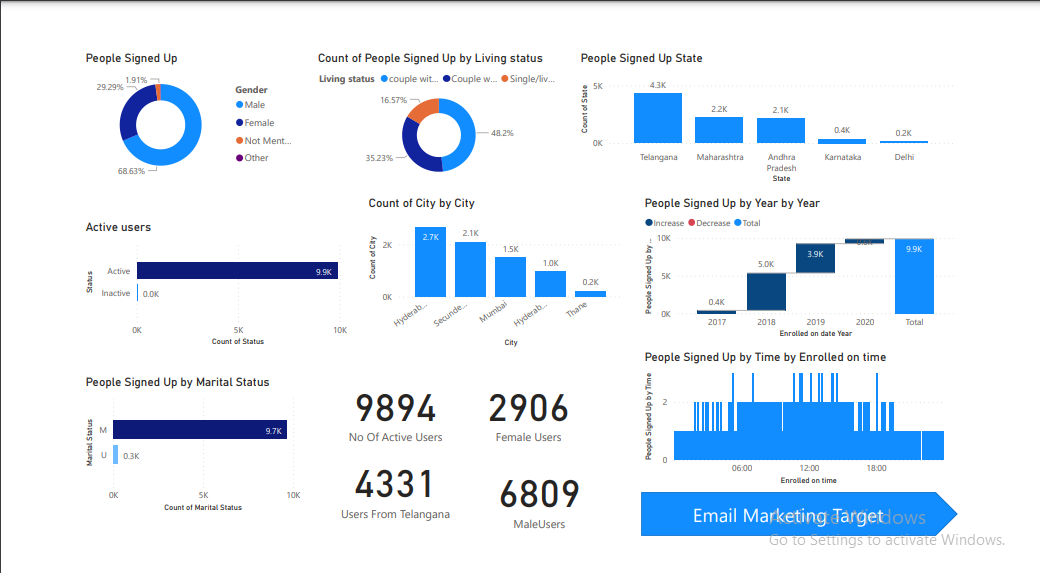

What the dashboard file says about the page in this screenshot:
{"tool":"powerbi","page":{"name":"Page 1","canvas":[1280,720],"ordinal":0},"visuals":[{"type":"donutChart","title":"People Signed Up","fields":{"Category":["Email Marketing.Gender"],"Y":["CountNonNull(Email Marketing.Gender)"]},"box":[18.5,26.9,314.1,191.5],"z":0},{"type":"barChart","title":"Active users","fields":{"Category":["Email Marketing.Status"],"Y":["CountNonNull(Email Marketing.Status)"]},"box":[18.5,267.1,379.6,183.1],"z":1},{"type":"barChart","title":"People Signed Up by Marital Status","fields":{"Category":["Email Marketing.Marital Status"],"Y":["CountNonNull(Email Marketing.Marital Status)"]},"box":[18.5,487.1,314.1,198.2],"z":2},{"type":"donutChart","title":"Count of People Signed Up by Living status","fields":{"Category":["Email Marketing.Living status"],"Y":["CountNonNull(Email Marketing.Living status)"]},"box":[347.7,26.9,352.8,191.5],"z":3},{"type":"columnChart","title":"People Signed Up State","fields":{"Category":["Email Marketing.State"],"Y":["CountNonNull(Email Marketing.State)"]},"box":[720.6,26.9,539.2,191.5],"z":4},{"type":"columnChart","fields":{"Category":["Email Marketing.City"],"Y":["CountNonNull(Email Marketing.City)"]},"box":[419.9,231.8,371.2,220.1],"z":5},{"type":"waterfallChart","fields":{"Category":["Email Marketing.Enrolled on date.Variation.Date Hierarchy.Year","Email Marketing.Enrolled on date.Variation.Date Hierarchy.Quarter","Email Marketing.Enrolled on date.Variation.Date Hierarchy.Month","Email Marketing.Enrolled on date.Variation.Date Hierarchy.Day"],"Y":["CountNonNull(Email Marketing.Enrolled on date)"]},"box":[811.3,231.8,448.5,206.6],"z":6},{"type":"card","fields":{"Values":["CountNonNull(Email Marketing.Status)"]},"box":[367.9,487.1,189.8,99.1],"z":7},{"type":"card","fields":{"Values":["CountNonNull(Email Marketing.State)"]},"box":[376.3,586.2,173,117.6],"z":8},{"type":"card","fields":{"Values":["CountNonNull(Email Marketing.Gender)"]},"box":[587.9,601.4,157.9,115.9],"z":9},{"type":"card","fields":{"Values":["CountNonNull(Email Marketing.Gender)"]},"box":[566.1,487.1,171.3,99.1],"z":10},{"type":"columnChart","fields":{"Category":["Email Marketing.Enrolled on time"],"Y":["CountNonNull(Email Marketing.Enrolled on time)"]},"box":[811.3,451.9,448.5,194.9],"z":11},{"type":"shape","box":[811.3,653.4,448.5,62.2],"z":12}]}

Visuals, with their boxes on the page's 1280x720 design canvas (x1, y1, x2, y2). These are canvas units, not pixel positions in the 1040x573 screenshot, which may show the page scaled, cropped or inside an application window:
"People Signed Up" donutChart: 18,27,333,218
"Active users" barChart: 18,267,398,450
"People Signed Up by Marital Status" barChart: 18,487,333,685
"Count of People Signed Up by Living status" donutChart: 348,27,700,218
"People Signed Up State" columnChart: 721,27,1260,218
columnChart - Email Marketing.City x CountNonNull(Email Marketing.City): 420,232,791,452
waterfallChart - Email Marketing.Enrolled on date.Variation.Date Hierarchy.Year x Email Marketing.Enrolled on date.Variation.Date Hierarchy.Quarter: 811,232,1260,438
card - CountNonNull(Email Marketing.Status): 368,487,558,586
card - CountNonNull(Email Marketing.State): 376,586,549,704
card - CountNonNull(Email Marketing.Gender): 588,601,746,717
card - CountNonNull(Email Marketing.Gender): 566,487,737,586
columnChart - Email Marketing.Enrolled on time x CountNonNull(Email Marketing.Enrolled on time): 811,452,1260,647
shape: 811,653,1260,716
